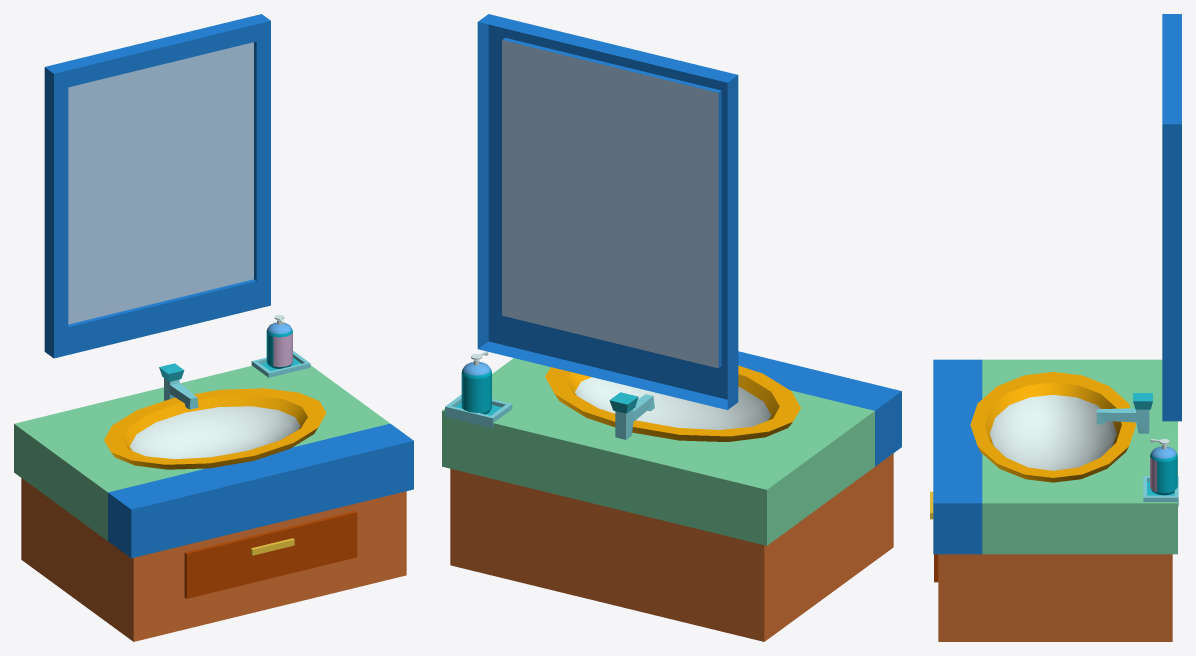
File: MXC_Restroom_SinkMale_lv2.fbx
3 views of the same model, side by side, from view 1: azimuth 30°, elevation 25°; view 2: azimuth 150°, elevation 25°; view 3: azimuth 270°, elevation 25° (orthographic). The views are drawn at different scales.
Visible parts, largest first — view 1: MXC_Restroom_SinkMale_lv2; view 2: MXC_Restroom_SinkMale_lv2; view 3: MXC_Restroom_SinkMale_lv2.
Boxes of the visible parts, x1,y1,x2,y2 form: MXC_Restroom_SinkMale_lv2: [14, 14, 413, 641]; MXC_Restroom_SinkMale_lv2: [442, 14, 901, 641]; MXC_Restroom_SinkMale_lv2: [930, 14, 1181, 641].
Size of the model in its own units: 171 by 280 by 127.
